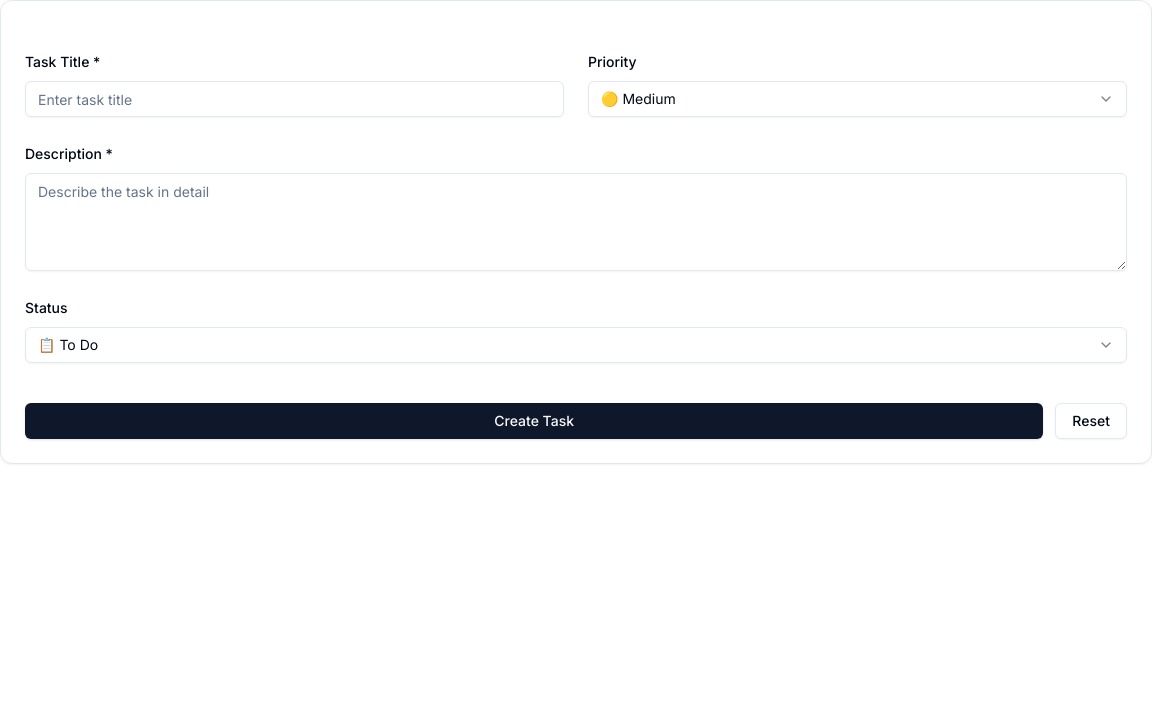
TaskForm Component › Form Validation › menampilkan error saat description kosong
This screenshot has width=1152, height=720.
Type "Test Title" into the field labelled "Task Title *" at (294, 99), box [25, 81, 564, 117]
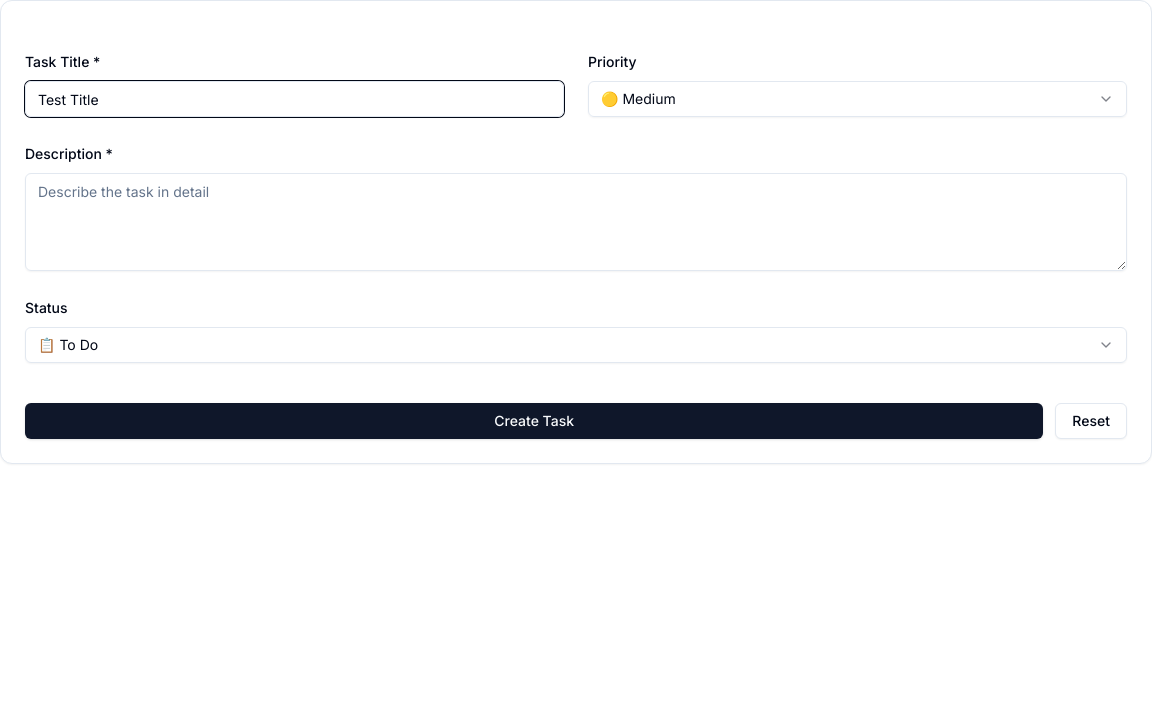
Click the button "Create Task" at (534, 421), box [25, 403, 1043, 439]
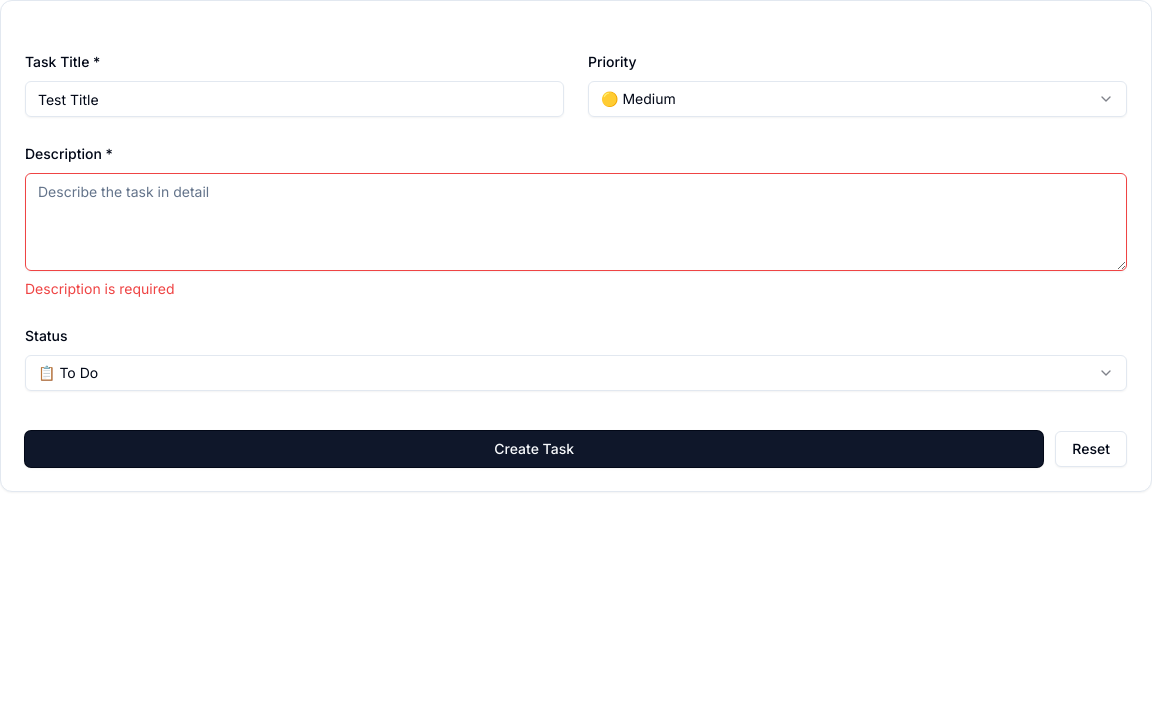
Expected: the text "Description is required" is shown, [25, 280, 174, 297]
